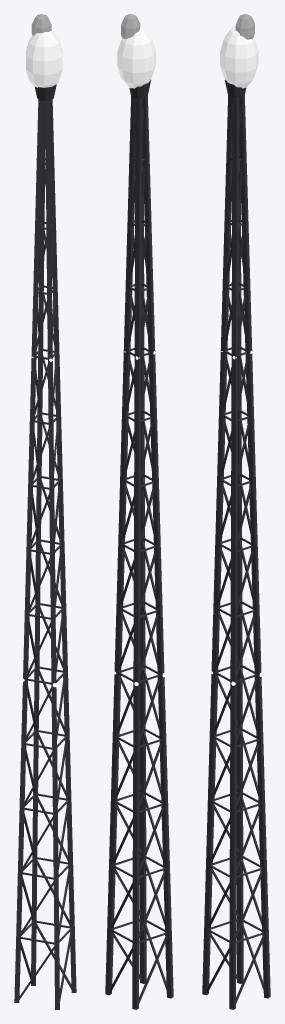
Rendered from cond_flare_mast.glb.
3 renders of one model, left to right at view 1: azimuth 90°, elevation 25°; view 2: azimuth 150°, elevation 25°; view 3: azimuth 330°, elevation 25°, orthographic.
Parts seen in each view (by area): view 1: cond_flare_mast; view 2: cond_flare_mast; view 3: cond_flare_mast.
Part boxes in pixels (<box>): cond_flare_mast: <box>14,14,76,1009</box>; cond_flare_mast: <box>105,14,173,1009</box>; cond_flare_mast: <box>202,14,270,1009</box>.
Bounding box in the file's own units: 10.01 × 174 × 10.01.
Materials: 3 (1 with a texture image).
